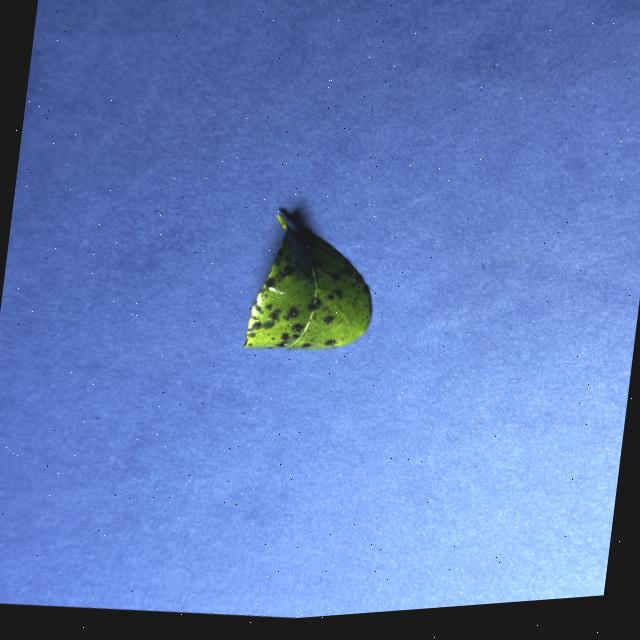sooty_mold: (243, 214, 369, 349)
